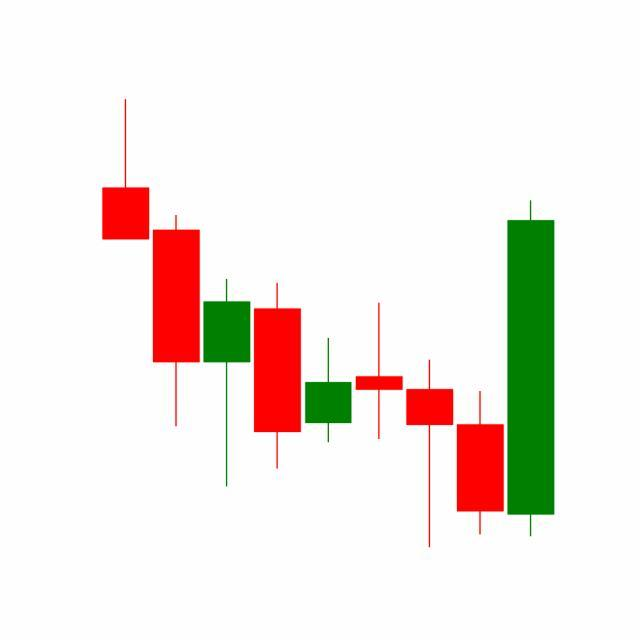Hikkake Pattern: (252, 279, 506, 548)
